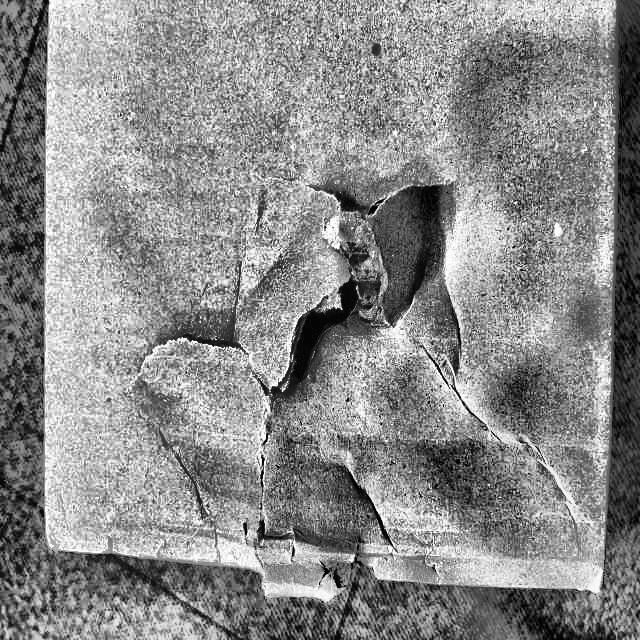box: (33, 0, 640, 596)
hole: (258, 271, 375, 387)
